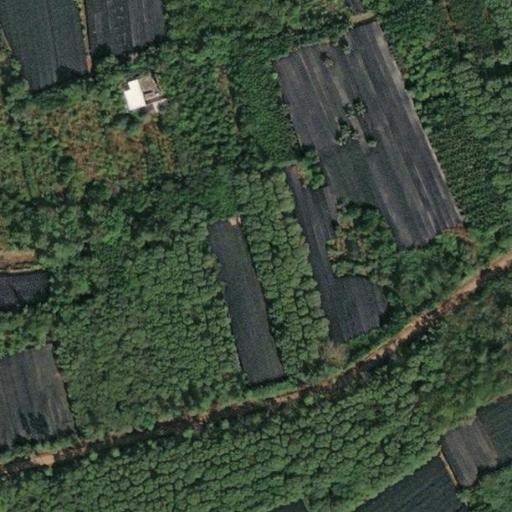building: (111, 80, 134, 109), (122, 97, 154, 117), (126, 74, 149, 98)
